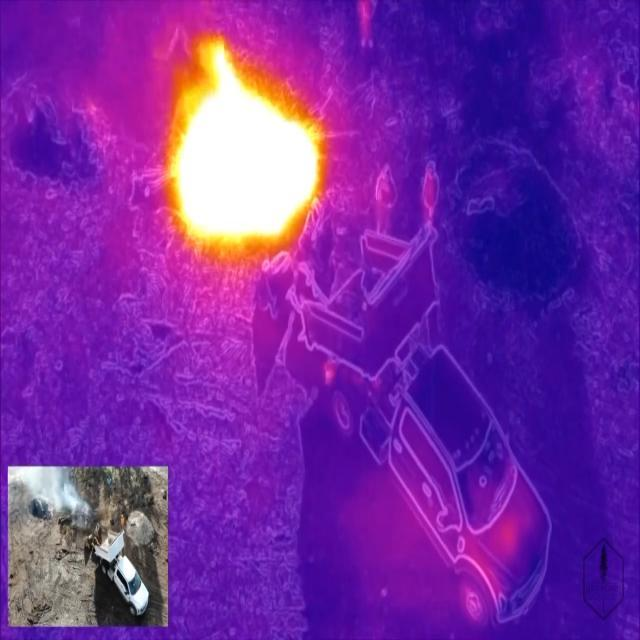fire: (162, 29, 328, 261)
